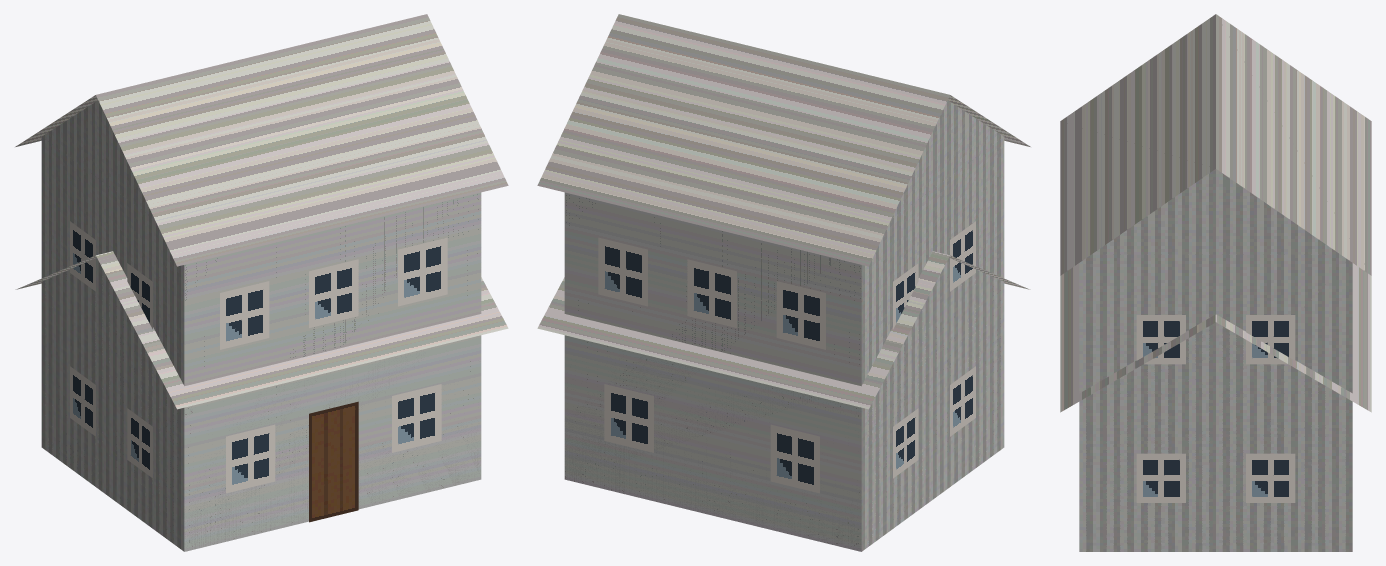
The model's file is casa_color.glb.
3 views of the same model, side by side, from view 1: azimuth 30°, elevation 25°; view 2: azimuth 150°, elevation 25°; view 3: azimuth 270°, elevation 25° (orthographic). The views are drawn at different scales.
Parts seen in each view (by area): view 1: casa_2pisos, casa_1piso; view 2: casa_2pisos, casa_1piso; view 3: casa_2pisos, casa_1piso.
Boxes of the visible parts, bbox=[...] form: casa_2pisos: bbox=[15, 14, 508, 551]; casa_1piso: bbox=[15, 251, 508, 551]; casa_2pisos: bbox=[537, 14, 1030, 551]; casa_1piso: bbox=[537, 251, 1030, 551]; casa_2pisos: bbox=[1060, 14, 1371, 551]; casa_1piso: bbox=[1060, 263, 1371, 551].
Bounding box in the file's own units: 6.7 × 7.9 × 5.7.
4 materials, 4 textured.
